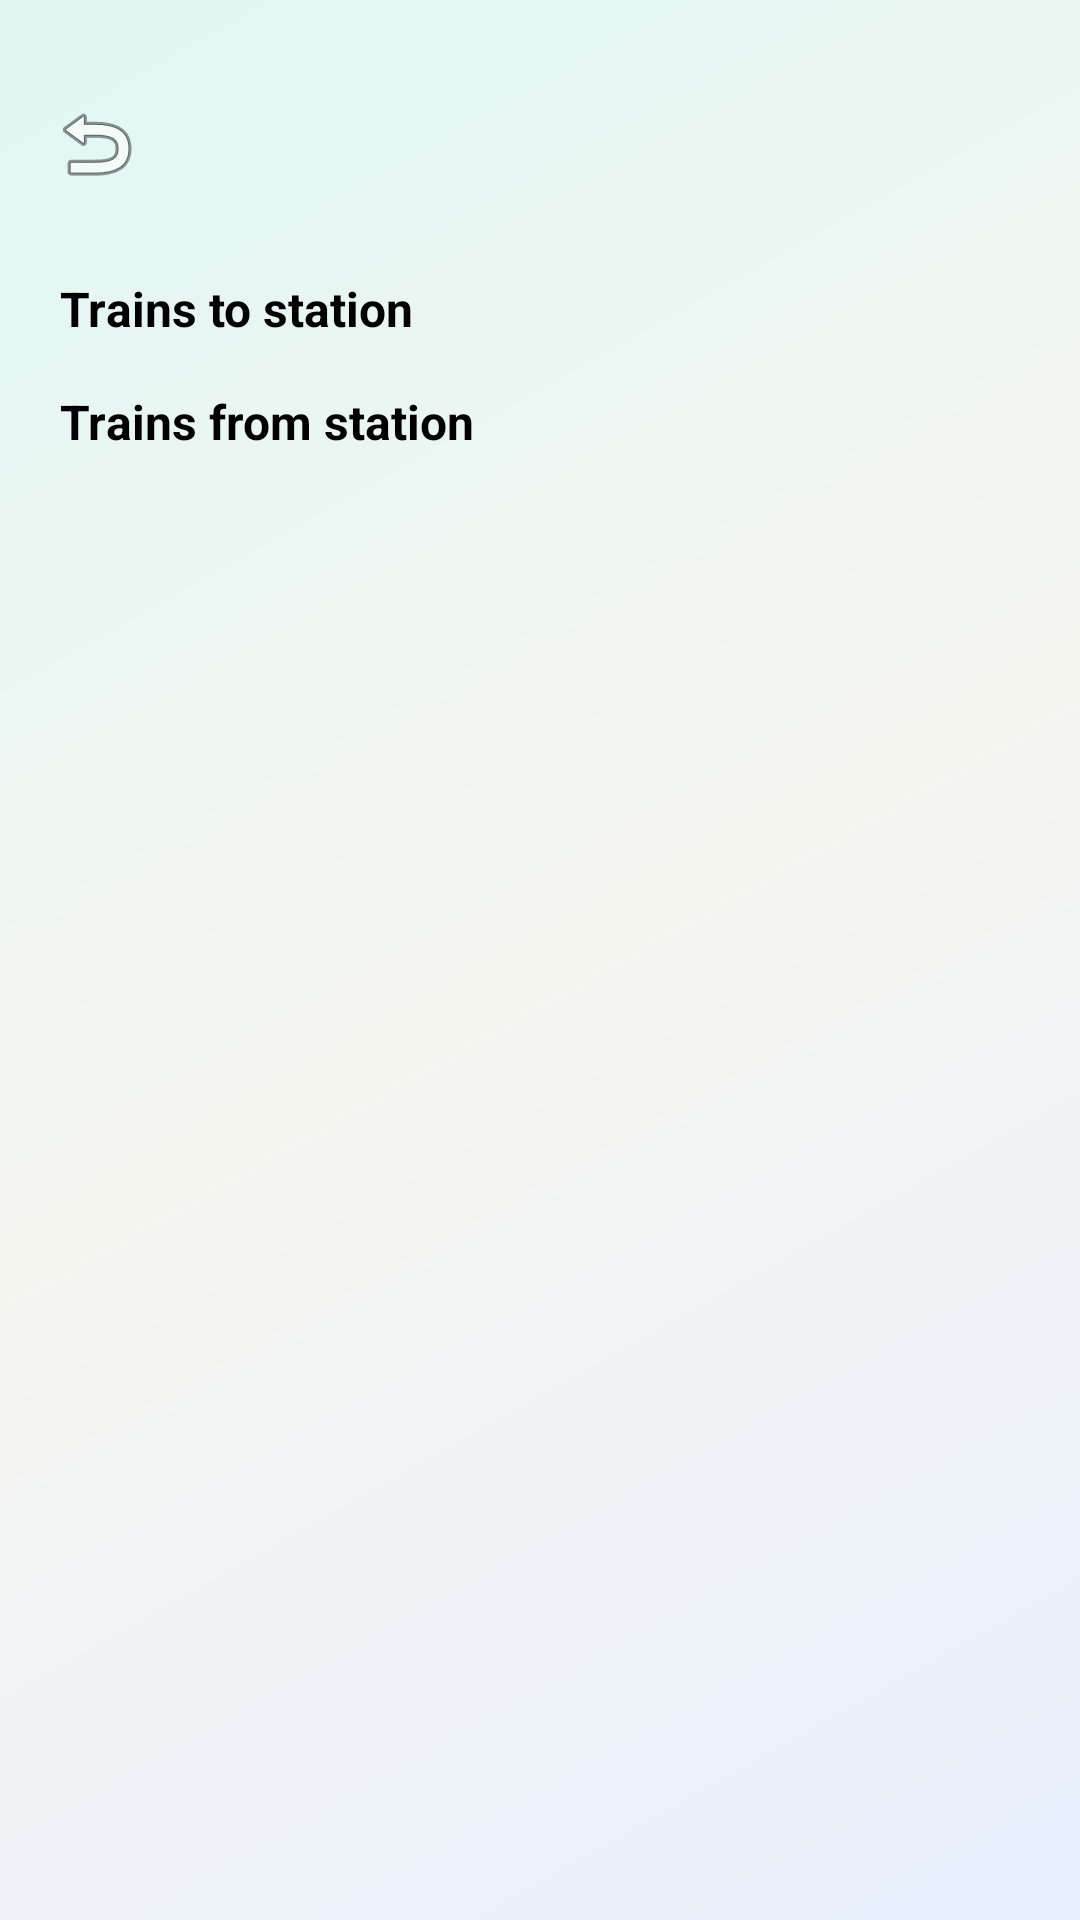

Where to tap for icons on this 1080px×1920px app screen, as point (x, y):
Back: point (97, 144)
